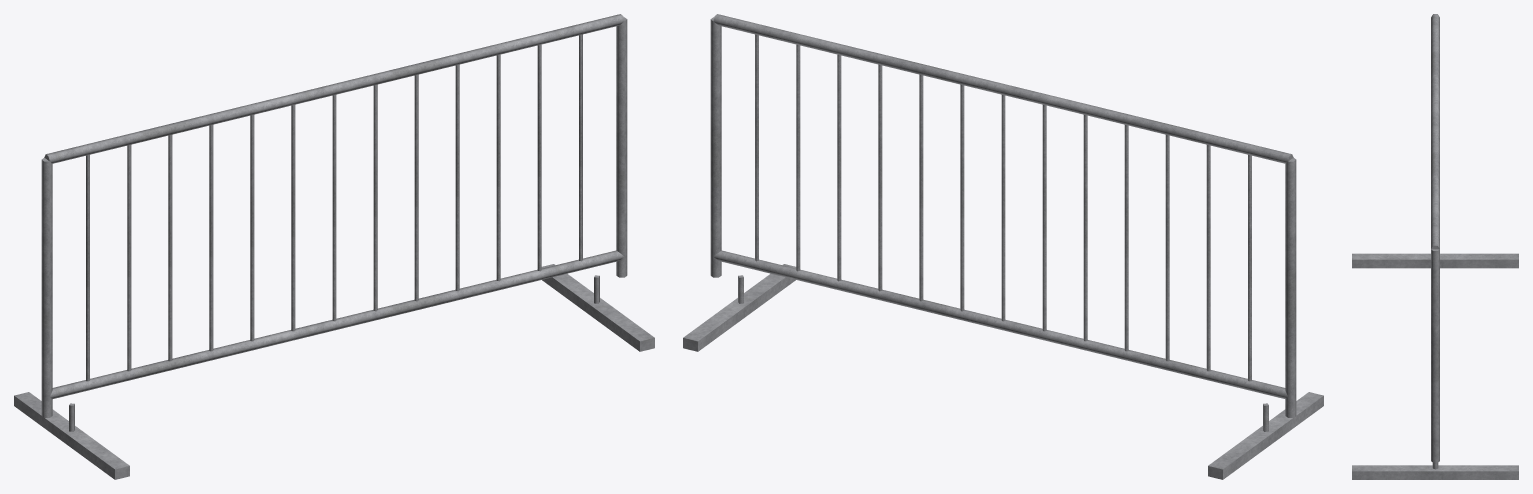
The model's file is crowd_fence.glb.
3 renders of one model, left to right at view 1: azimuth 30°, elevation 25°; view 2: azimuth 150°, elevation 25°; view 3: azimuth 270°, elevation 25°, orthographic. The views are drawn at different scales.
Visible parts, largest first — view 1: CrowdFence; view 2: CrowdFence; view 3: CrowdFence.
Part boxes in pixels (left/top/right/bottom): CrowdFence: left=14, top=14, right=654, bottom=479; CrowdFence: left=683, top=14, right=1323, bottom=479; CrowdFence: left=1352, top=14, right=1518, bottom=479.
Size of the model in its own units: 2.33 by 1.12 by 0.7.
Materials: 1 (1 with a texture image).
